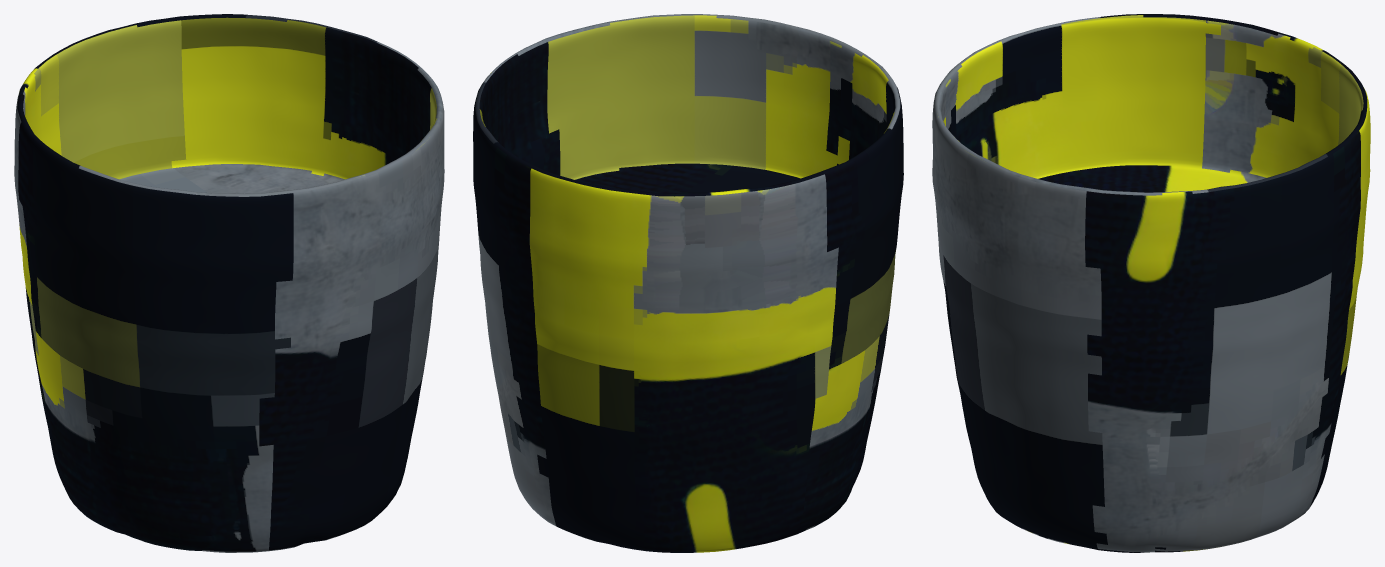
The picture shows the model from 3 angles, left to right: view 1: azimuth 30°, elevation 25°; view 2: azimuth 150°, elevation 25°; view 3: azimuth 270°, elevation 25°; orthographic projection.
Bounding box in the file's own units: 1.64 × 1.61 × 1.67.
